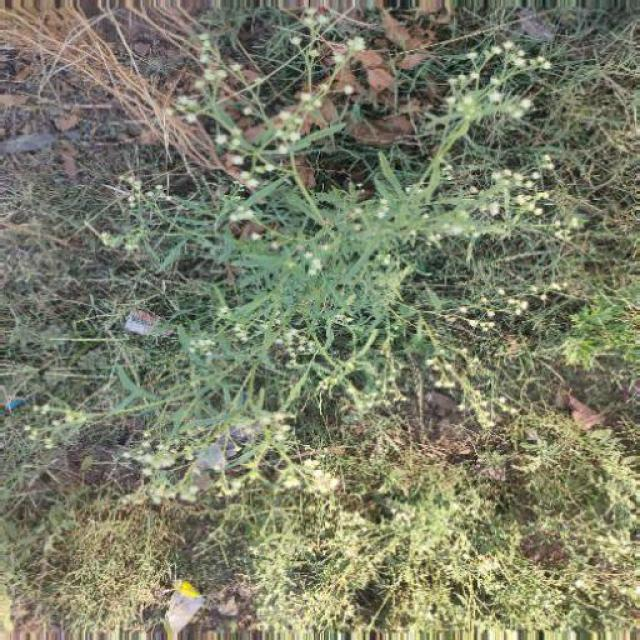weed: (135, 81, 531, 540)
